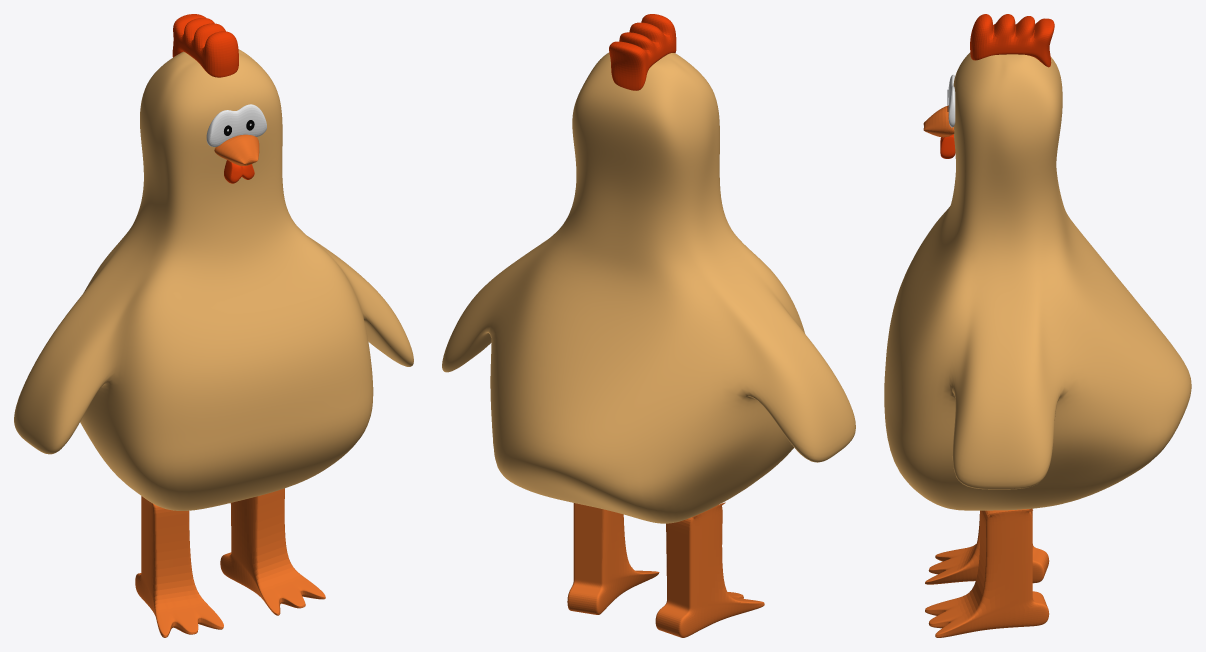
The model's file is TuppYellow.fbx.
3 views of the same model, side by side, from view 1: azimuth 30°, elevation 25°; view 2: azimuth 150°, elevation 25°; view 3: azimuth 270°, elevation 25° (orthographic). The views are drawn at different scales.
Parts seen in each view (by area): view 1: Body, Legs, Hair, Eyes, Beak; view 2: Body, Legs, Hair; view 3: Body, Legs, Hair, Beak.
Part boxes in pixels (x1,y1,x2,y2): Body: [14, 49, 413, 510]; Legs: [135, 488, 325, 637]; Hair: [172, 14, 238, 77]; Eyes: [206, 104, 266, 146]; Beak: [214, 134, 259, 165]; Body: [442, 52, 855, 523]; Legs: [567, 502, 764, 637]; Hair: [609, 14, 676, 90]; Body: [884, 52, 1191, 510]; Legs: [925, 508, 1049, 637]; Hair: [970, 14, 1054, 67]; Beak: [923, 105, 954, 137].
Size of the model in its own units: 526 by 777 by 372.
